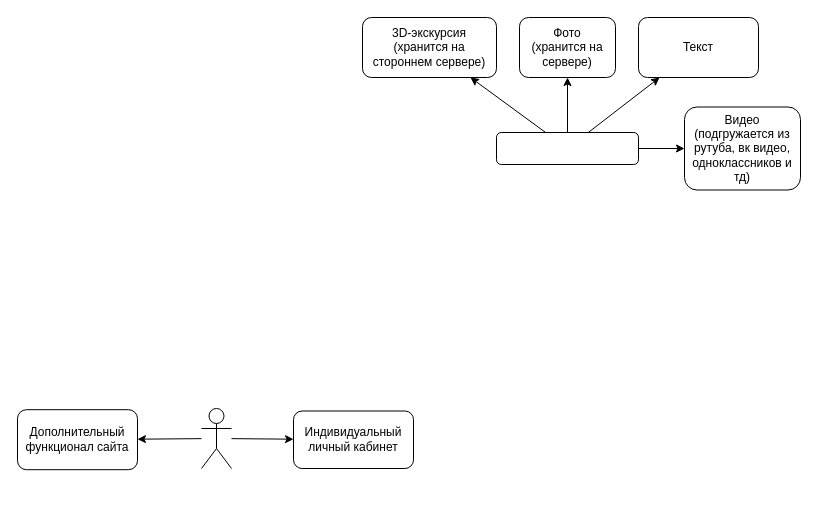
Some shapes in this 818 by 522 pixel diagram are drawn without their labels. The shapes that lost their labels are listed below. From the top down, each one's centre as x and y in pixels, then its label:
At (x=567, y=148): "Виды экскурсий".
At (x=216, y=438): "Администратор".
